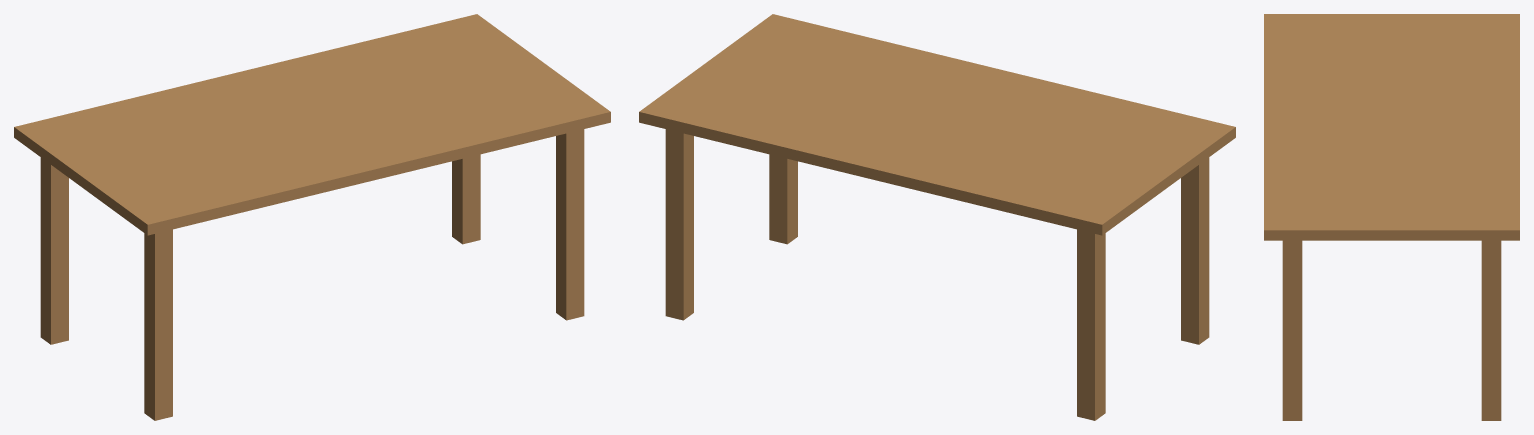
The picture shows the model from 3 angles, left to right: view 1: azimuth 30°, elevation 25°; view 2: azimuth 150°, elevation 25°; view 3: azimuth 270°, elevation 25°; orthographic projection. The views are drawn at different scales.
Parts seen in each view (by area): view 1: mesa_business; view 2: mesa_business; view 3: mesa_business.
Boxes of the visible parts, box(x1,y1,x2,y2) form: mesa_business: box(14, 14, 610, 420); mesa_business: box(639, 14, 1235, 420); mesa_business: box(1264, 14, 1519, 420).
Size of the model in its own units: 1.8 by 0.9 by 0.77.
